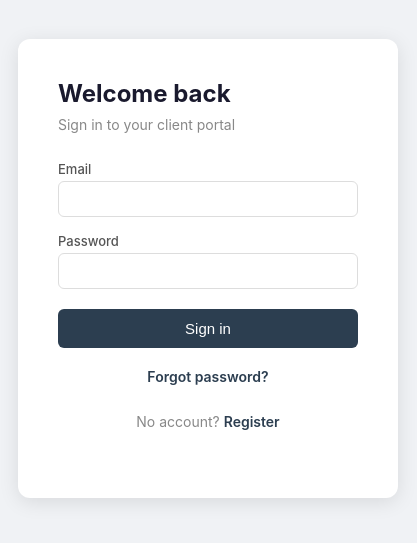
Scenario: Login › clears error when user starts typing again
Type "test@example.com" into the field labelled "Email" at (208, 198), box [58,180,358,216]
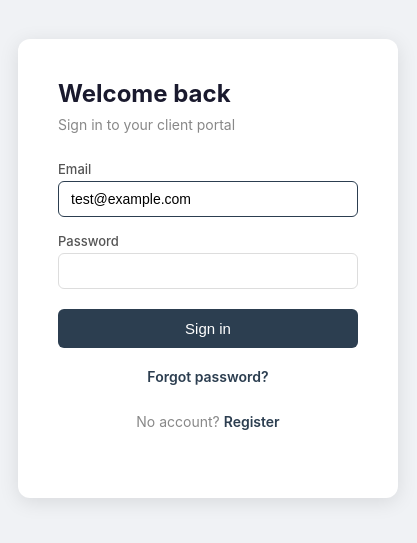
Type "password123" into the password field labelled "Password" at (208, 270), box [58,252,358,288]
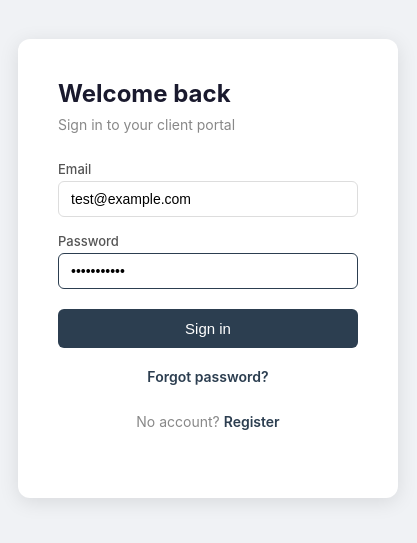
Click the button "Sign in" at (208, 328), box [58,308,358,348]
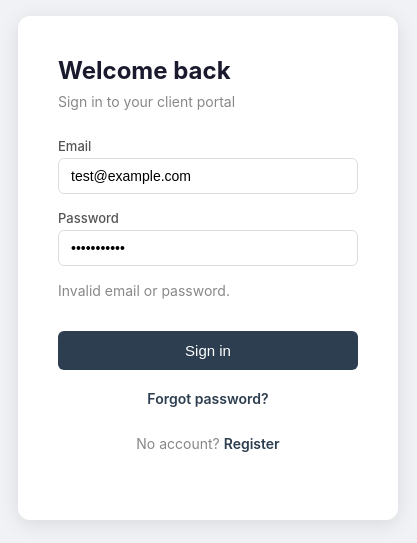
Result: the text "Invalid email or password." is shown at [58,282,230,299]
Type "x" into the field labelled "Email" at (208, 176), box [58,158,358,194]
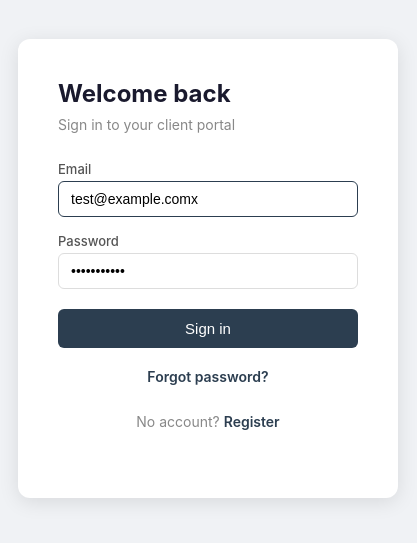
Result: the text "Invalid email or password." is gone
